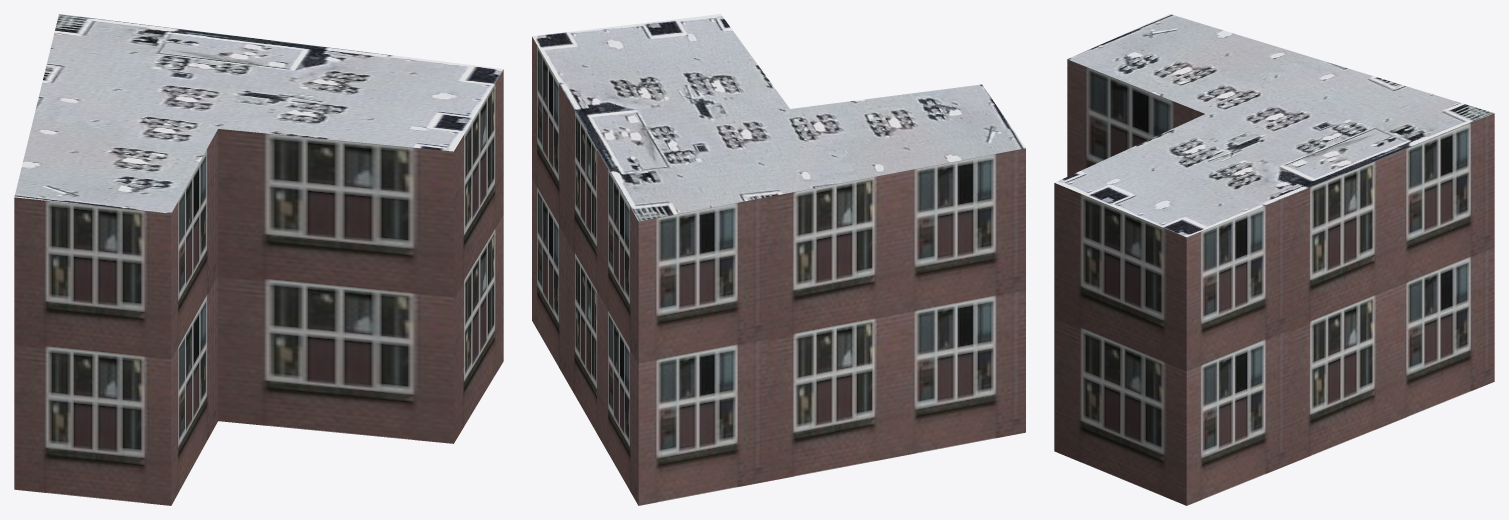
The model's file is ResTex__4137.fbx.
3 views of the same model, side by side, from view 1: azimuth 30°, elevation 25°; view 2: azimuth 150°, elevation 25°; view 3: azimuth 270°, elevation 25° (orthographic). The views are drawn at different scales.
Parts seen in each view (by area): view 1: CityEngineMaterial_12_m, CityEngineMaterial_4_m; view 2: CityEngineMaterial_12_m, CityEngineMaterial_4_m; view 3: CityEngineMaterial_12_m, CityEngineMaterial_4_m.
Part boxes in pixels (<box>): CityEngineMaterial_12_m: <box>14,69,503,505</box>; CityEngineMaterial_4_m: <box>14,14,503,213</box>; CityEngineMaterial_12_m: <box>532,37,1025,505</box>; CityEngineMaterial_4_m: <box>532,14,1025,221</box>; CityEngineMaterial_12_m: <box>1054,59,1494,505</box>; CityEngineMaterial_4_m: <box>1054,14,1493,237</box>.
Bounding box in the file's own units: 10.71 × 6 × 8.92.
2 materials, 2 textured.
